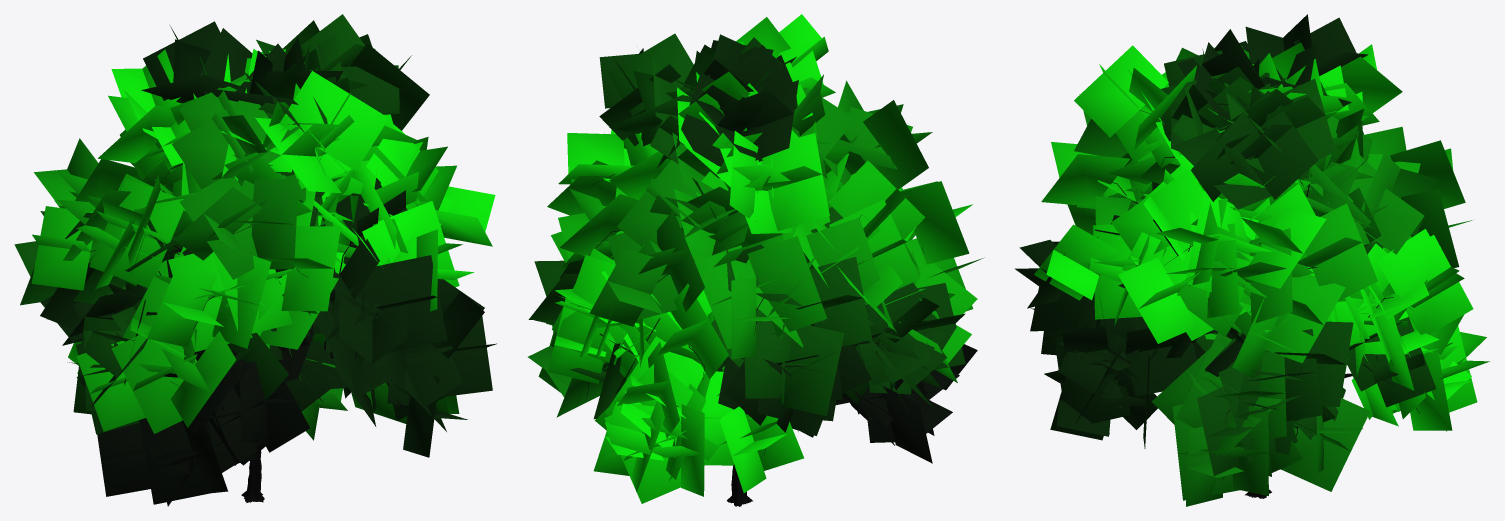
Rendered from Euro_Beech_4.fbx.
3 renders of one model, left to right at view 1: azimuth 30°, elevation 25°; view 2: azimuth 150°, elevation 25°; view 3: azimuth 270°, elevation 25°, orthographic. The views are drawn at different scales.
Parts seen in each view (by area): view 1: Euro_Beech_4; view 2: Euro_Beech_4; view 3: Euro_Beech_4.
Part boxes in pixels (x1,y1,x2,y2): Euro_Beech_4: (14, 14, 496, 506); Euro_Beech_4: (528, 14, 984, 506); Euro_Beech_4: (1014, 14, 1489, 506).
Bounding box in the file's own units: 514 × 555 × 519.
